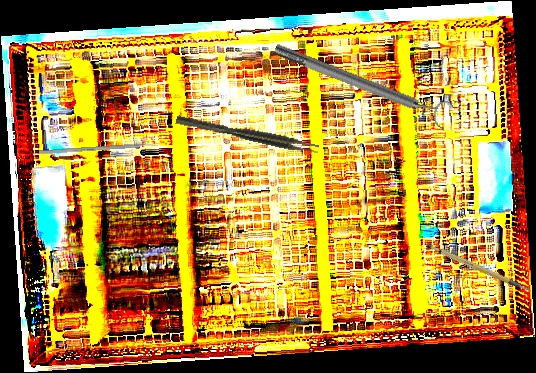Fixation Ring: (269, 33, 455, 132)
Pusher: (39, 141, 167, 155)
Scalpel Handle: (424, 229, 532, 309)
Tissue Forceps: (175, 110, 320, 157)
